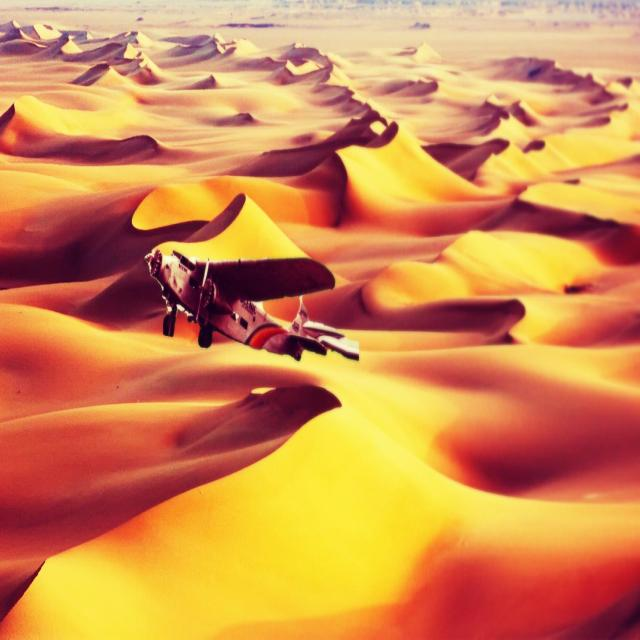airplane: (143, 245, 360, 362)
